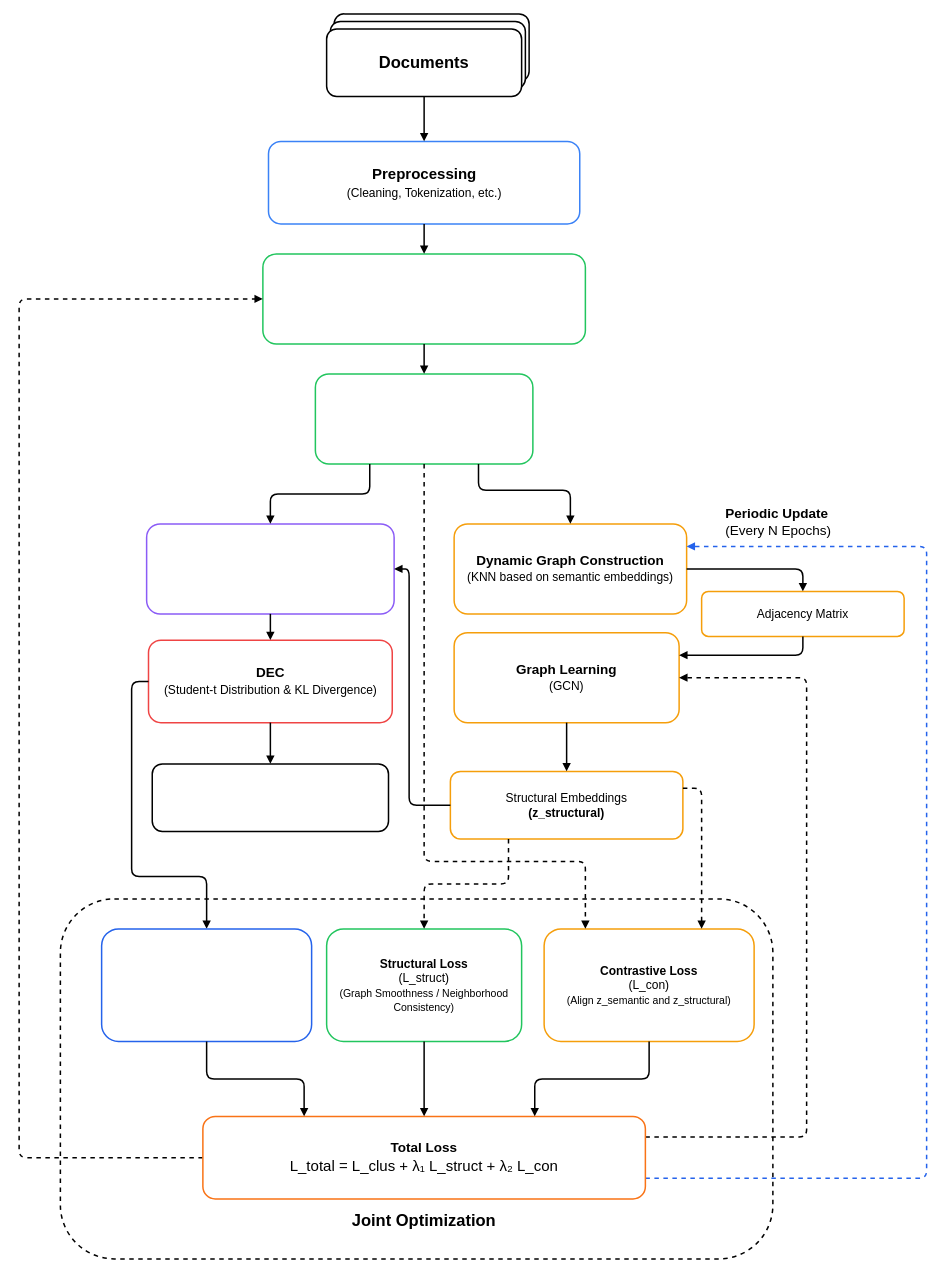
Some shapes in this 946 by 1272 pixel diagram are drawn without their labels. Here are the shapes that lost their labels. From the top down, the centre of each, then its label:
(x=424, y=298): Semantic Representation Learning (Transformer Encoder)
(x=423, y=418): Semantic Embeddings (z_semantic)
(x=270, y=568): Representation Fusion (Combine Semantic + Structural Views)
(x=270, y=797): Final Cluster Assignments
(x=206, y=985): Clustering Loss (L_clus) (from DEC output)
